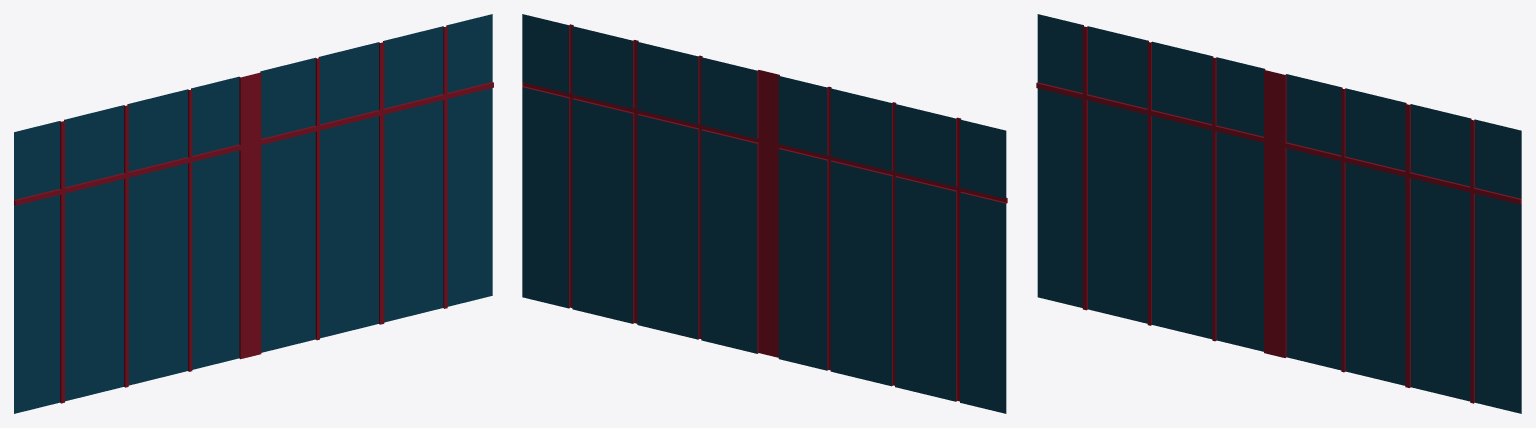
File: Stålglasväggarna bakom reception.fbx
The picture shows the model from 3 angles, left to right: view 1: azimuth 30°, elevation 25°; view 2: azimuth 150°, elevation 25°; view 3: azimuth 330°, elevation 25°; orthographic projection.
Parts seen in each view (by area): view 1: pPlane1; view 2: pPlane1; view 3: pPlane1.
Part boxes in pixels (x1,y1,x2,y2): pPlane1: (14, 14, 493, 413); pPlane1: (522, 14, 1007, 413); pPlane1: (1036, 14, 1521, 413).
Bounding box in the file's own units: 1536 × 861 × 15.08.
